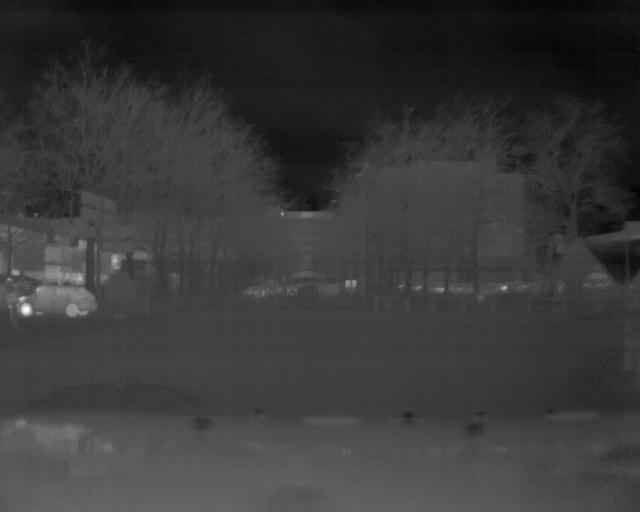car: (15, 282, 97, 320)
